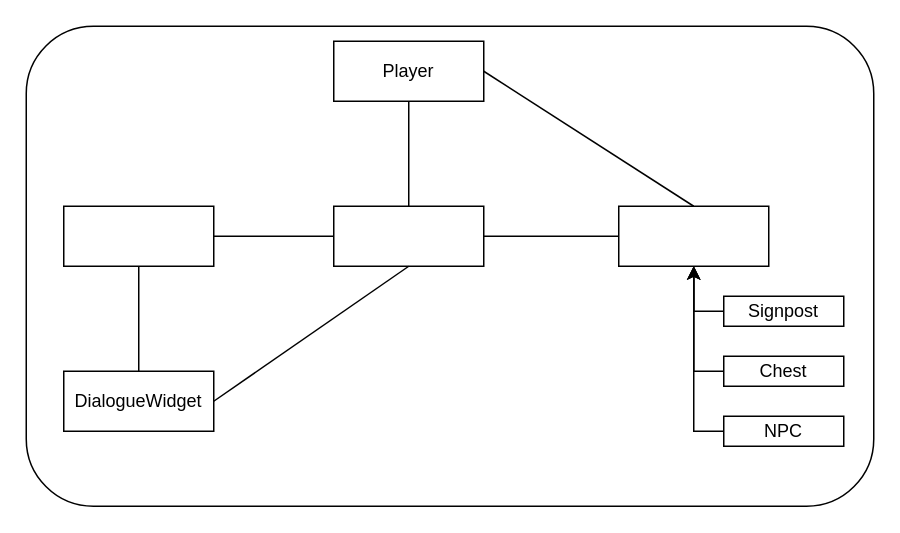
The diagram is 900 pixels wide and 533 high, and some of its shapes have lost their labels. The shapes that lost their labels are listed below. From the top down, each one's centre as x and y in pixels, then its label:
[138,235]: PlayerState
[408,235]: PlayerController
[693,235]: Interactable
